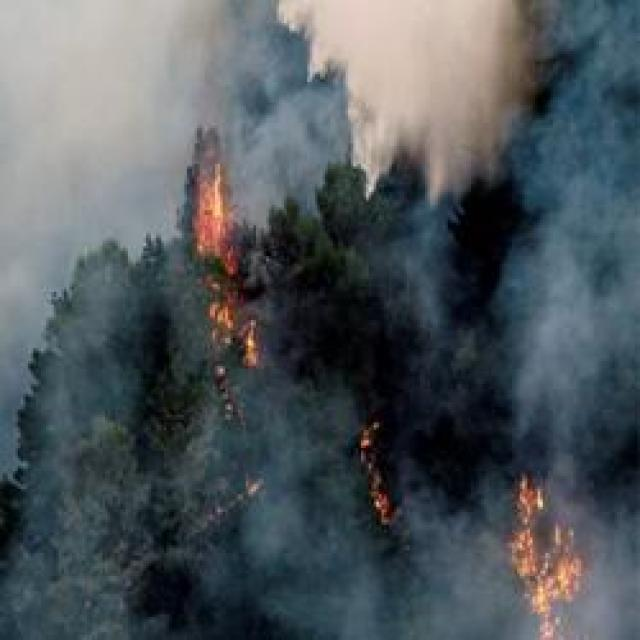Fire: (187, 159, 264, 370), (512, 476, 589, 639)
Smoke: (266, 0, 640, 370), (0, 374, 512, 638), (0, 0, 265, 157), (0, 156, 186, 370), (514, 369, 640, 473), (592, 476, 638, 636)
